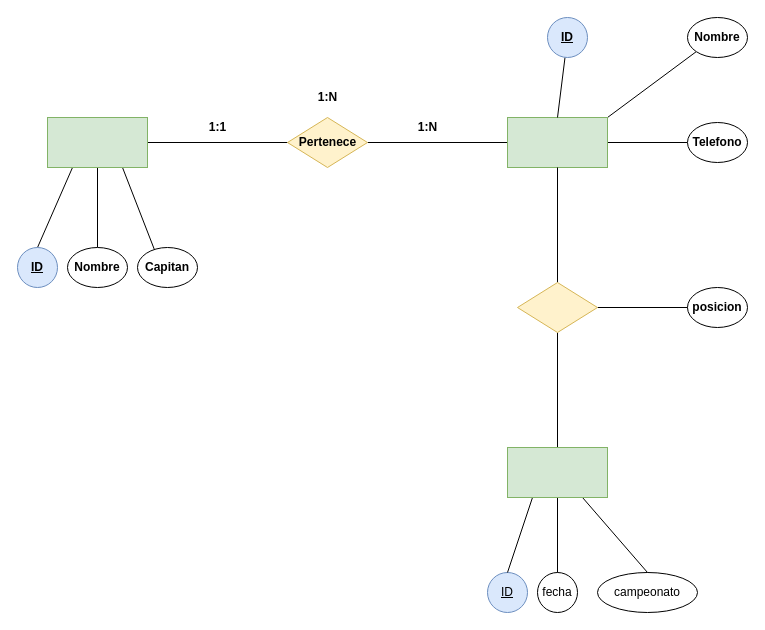
The diagram is 765 pixels wide and 630 high, and some of its shapes have lost their labels. The shapes that lost their labels are listed below. From the top down, each one's centre as x and y in pixels, then its label:
At point 97,142: "Equipo".
At point 557,142: "Jugadores".
At point 557,307: "juega".
At point 557,472: "Partido".
